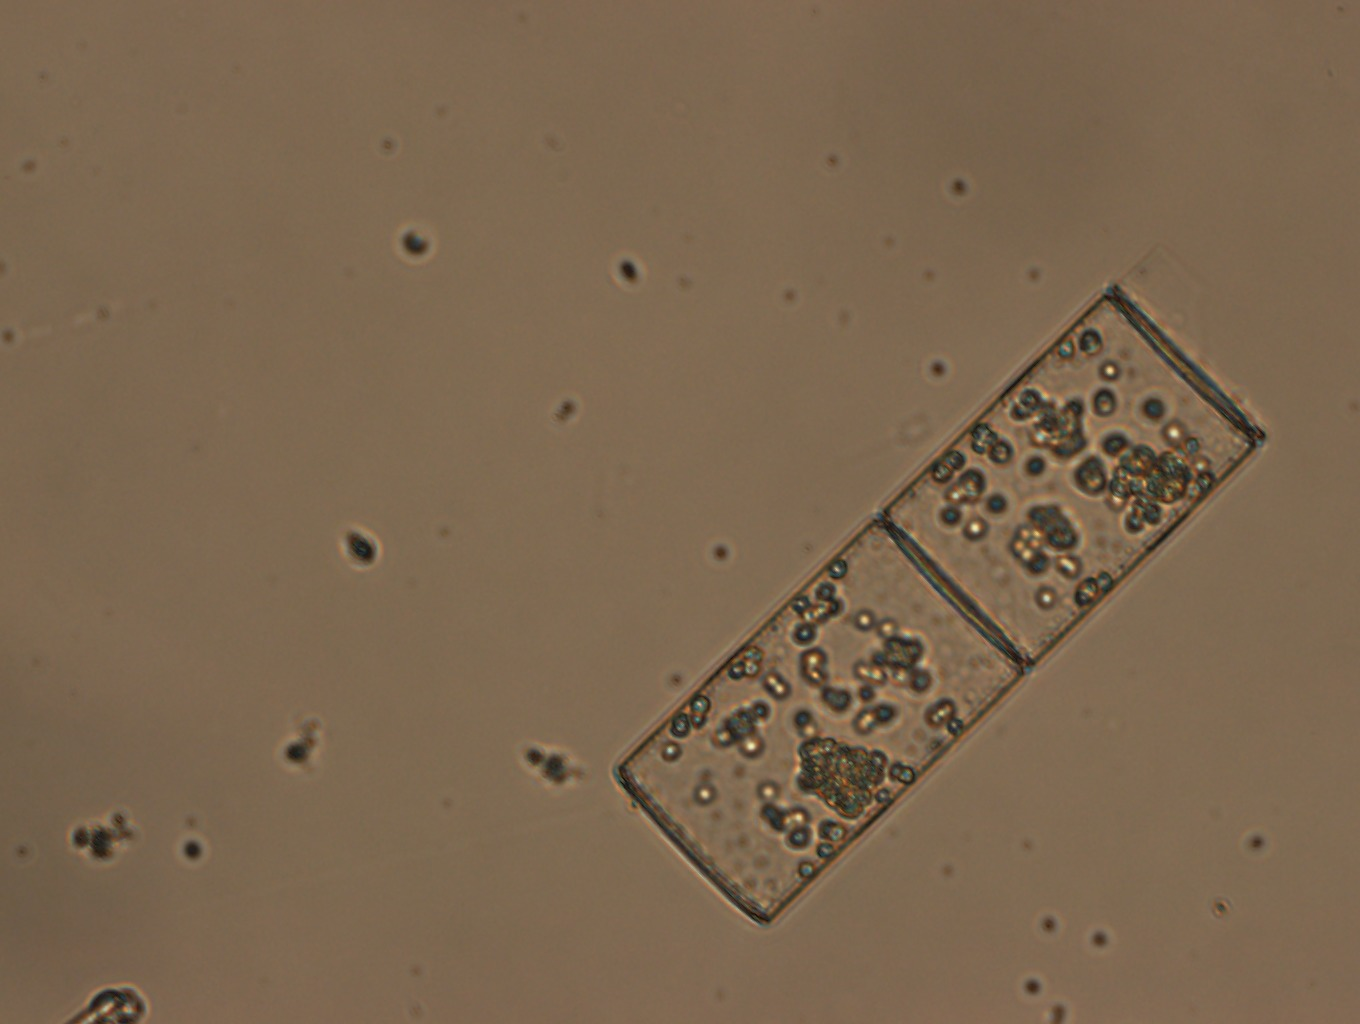guinardia flaccida: (601, 273, 1273, 930)
